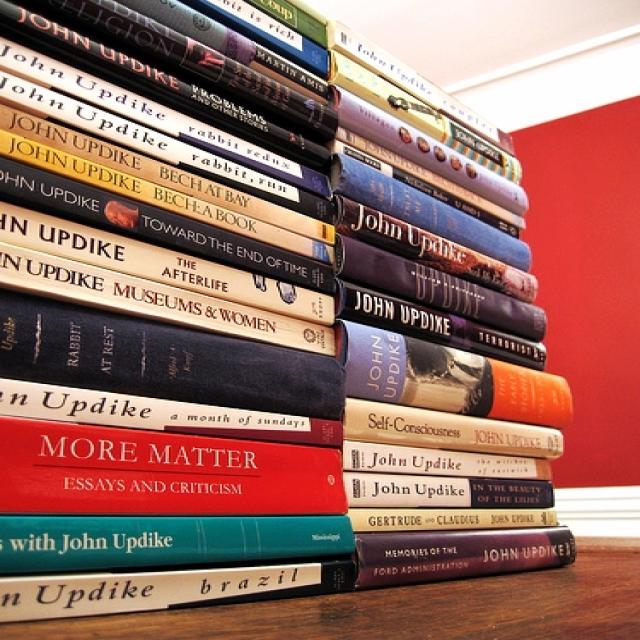book: (0, 103, 338, 244), (2, 420, 348, 511), (334, 90, 531, 213), (341, 320, 566, 425), (334, 196, 534, 300), (0, 516, 353, 572), (340, 282, 546, 369), (353, 527, 580, 588), (343, 470, 553, 505)
